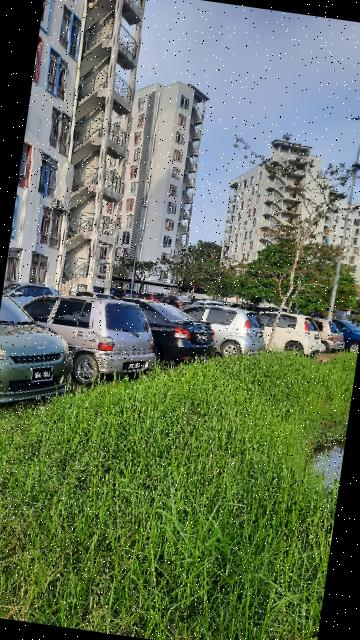License_Plate: (27, 363, 58, 386), (121, 357, 148, 373), (194, 330, 210, 345)
car: (18, 280, 160, 388), (1, 286, 87, 415), (108, 292, 221, 374), (175, 302, 277, 365), (247, 303, 329, 365)
